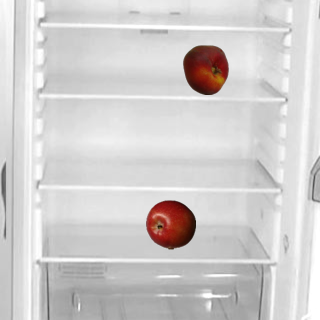Apple Braeburn: (145, 199, 195, 249)
Nectarine Flat: (180, 44, 230, 94)
